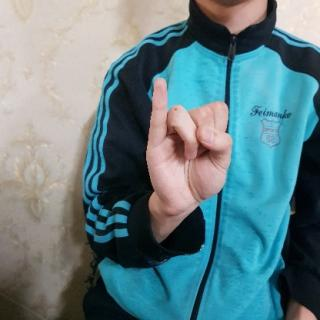MEEM: (143, 74, 234, 217)
